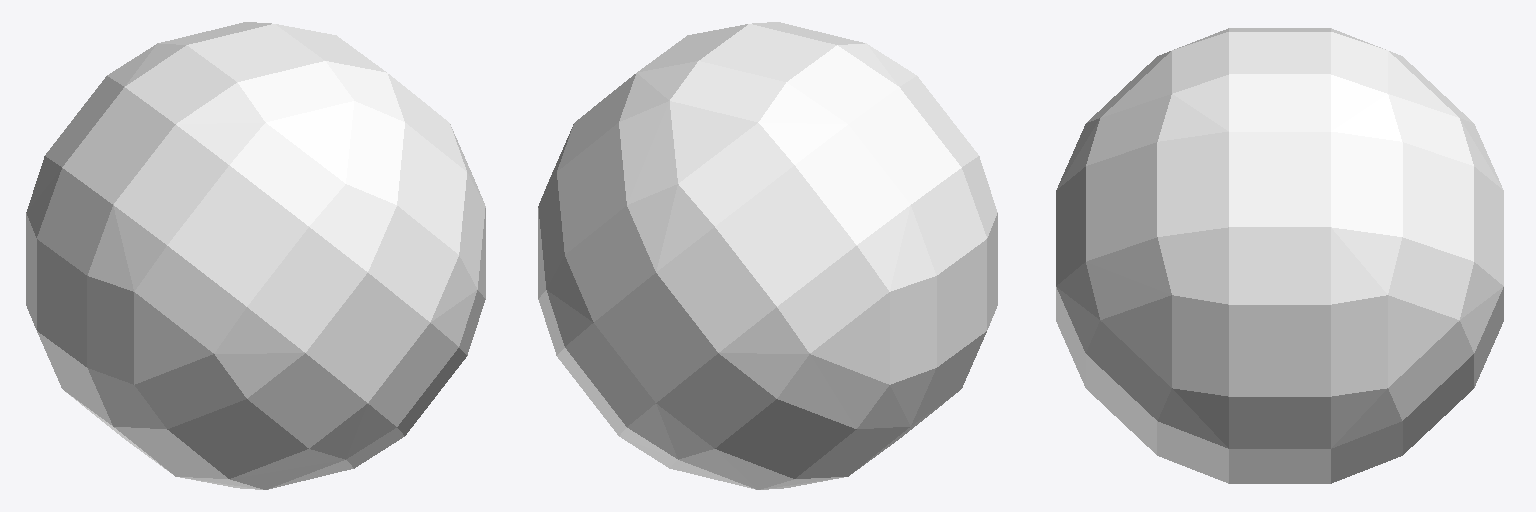
The model's file is catoms3D_STL.obj.
3 views of the same model, side by side, from view 1: azimuth 30°, elevation 25°; view 2: azimuth 150°, elevation 25°; view 3: azimuth 270°, elevation 25° (orthographic).
Visible parts, largest first — view 1: catoms3D; view 2: catoms3D; view 3: catoms3D.
Boxes of the visible parts, <box> form: catoms3D: <box>26,22,485,489</box>; catoms3D: <box>538,22,997,489</box>; catoms3D: <box>1056,28,1503,483</box>.
Size of the model in its own units: 10 by 10 by 9.99.